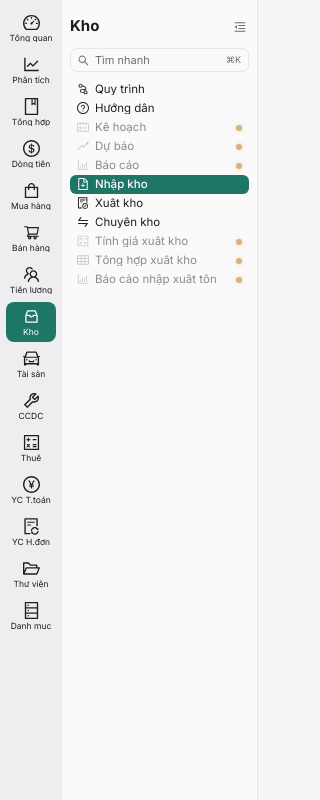
Test: Sidebar › bấm rail vào phân hệ có route (Danh mục) thì điều hướng, panel không đổi sang Danh mục
Expected: the text "Nhập kho" is shown, [95, 177, 148, 191]
Click the button titled "Danh mục —". click: (31, 616)
box: [6, 596, 56, 636]
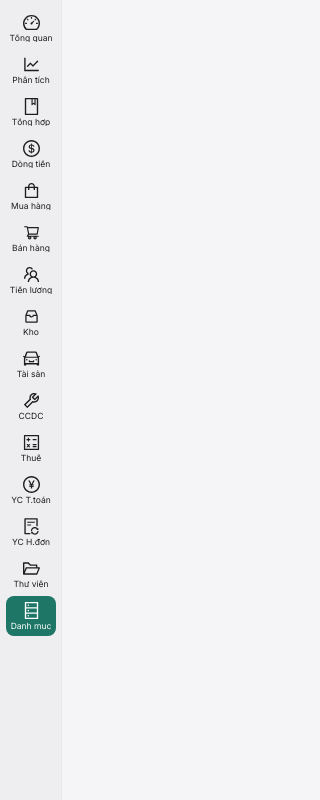
Result: the button "Nhập kho" is gone
